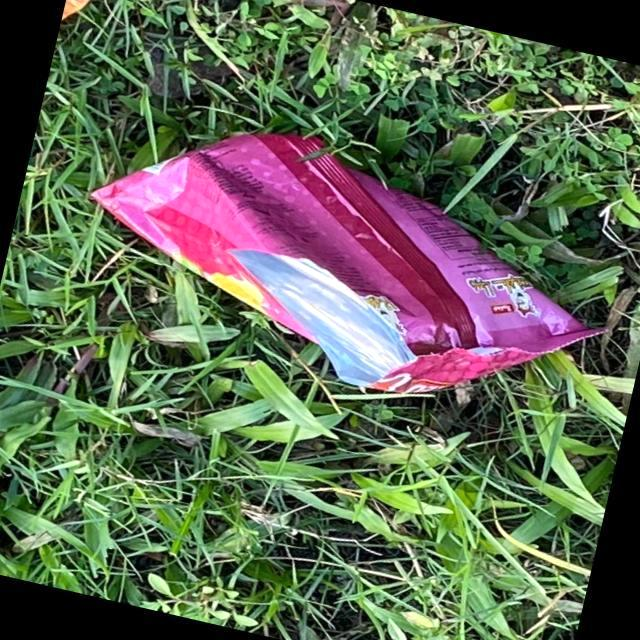packet: (93, 129, 575, 396)
